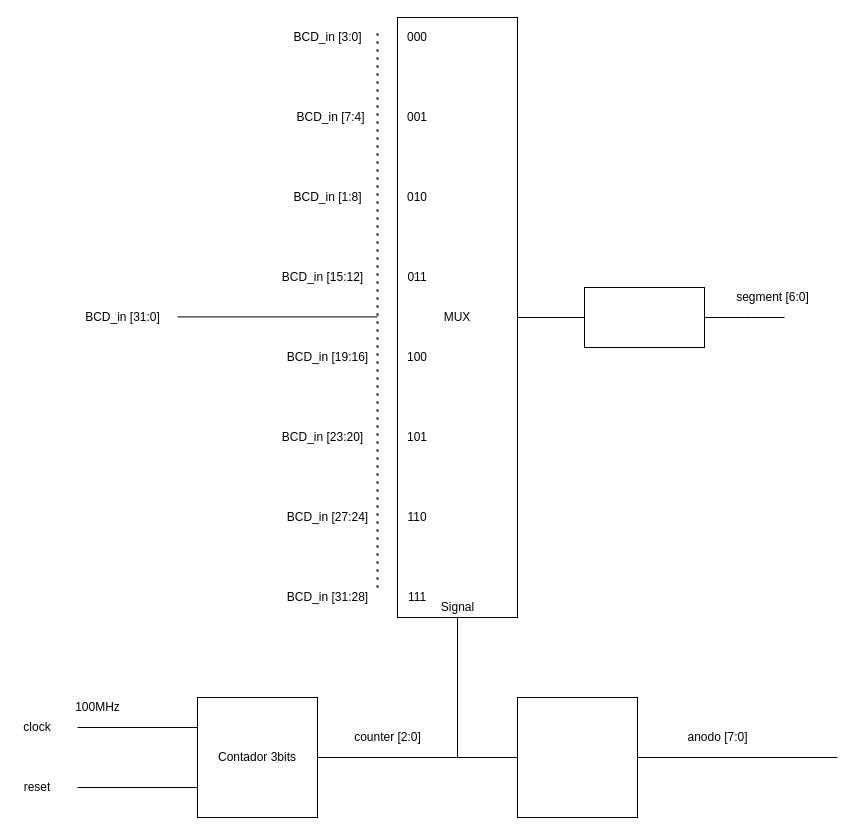
This 856x835 diagram has some shape labels left out. The box of each missing label's shape, as (x1, y1, x2, y2) in pixels:
Decoder: (516, 696, 638, 818)
sevenSeg: (584, 286, 704, 348)
